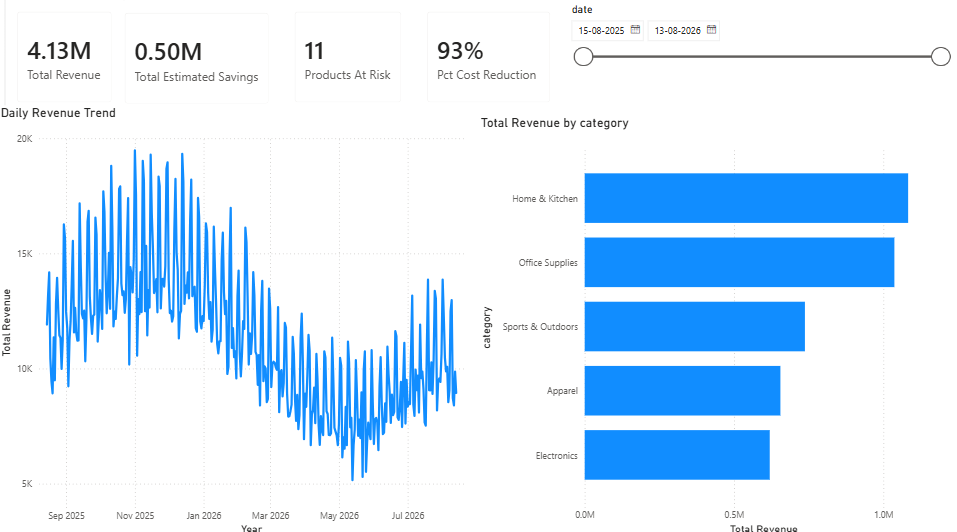

The page's visual inventory and layout, read from the dashboard file:
{"tool":"powerbi","page":{"name":"Executive Overview","canvas":[1280,720],"ordinal":0},"visuals":[{"type":"cardVisual","fields":{"Data":["Products.Total Revenue"]},"box":[9.6,0,160.5,155.1],"z":0},{"type":"cardVisual","fields":{"Data":["Products.Total Estimated Savings"]},"box":[154.1,1.2,226.2,155.3],"z":1000},{"type":"cardVisual","fields":{"Data":["Products.Products At Risk"]},"box":[380.3,0,176.1,155.3],"z":2000},{"type":"cardVisual","fields":{"Data":["Products.Pct Cost Reduction"]},"box":[556.4,0,198.1,155.3],"z":3000},{"type":"lineChart","title":"Daily Revenue Trend","fields":{"Category":["Sales_Transactions.date.Variation.Date Hierarchy.Year","Sales_Transactions.date.Variation.Date Hierarchy.Quarter","Sales_Transactions.date.Variation.Date Hierarchy.Month","Sales_Transactions.date.Variation.Date Hierarchy.Day"],"Y":["Products.Total Revenue"]},"box":[0,141.3,639.5,579.1],"z":4000},{"type":"clusteredBarChart","fields":{"Category":["Products.category"],"Y":["Products.Total Revenue"]},"box":[639.5,155.1,640.8,565.4],"z":5000},{"type":"slicer","fields":{"Values":["Sales_Transactions.date"]},"box":[754,0,526,155],"z":6000}]}

Visuals, with their boxes in screenshot pixels (x1, y1, x2, y2), scaled from the page's 1280x720 canvas onto the 957x532 screenshot:
cardVisual - Products.Total Revenue: [left=7, top=0, right=127, bottom=115]
cardVisual - Products.Total Estimated Savings: [left=115, top=1, right=284, bottom=116]
cardVisual - Products.Products At Risk: [left=284, top=0, right=416, bottom=115]
cardVisual - Products.Pct Cost Reduction: [left=416, top=0, right=564, bottom=115]
"Daily Revenue Trend" lineChart: [left=0, top=104, right=478, bottom=531]
clusteredBarChart - Products.category x Products.Total Revenue: [left=478, top=115, right=956, bottom=531]
slicer - Sales_Transactions.date: [left=564, top=0, right=956, bottom=115]
